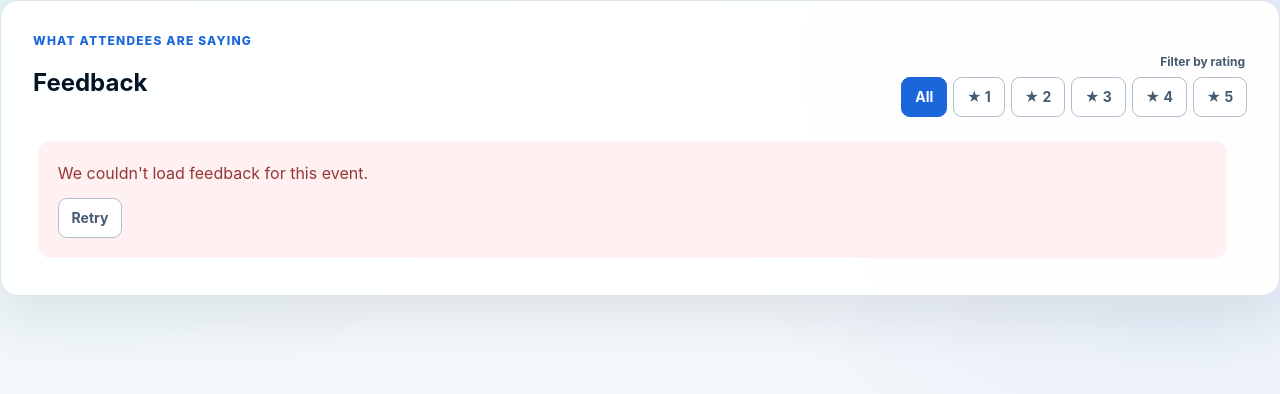
FeedbackStream › offers a retry after the initial request fails
Expected: the text "We couldn't load feedback for this event." is shown, [58,163,368,183]
Click the button "Retry" at point(90, 218), box [58,198,122,238]
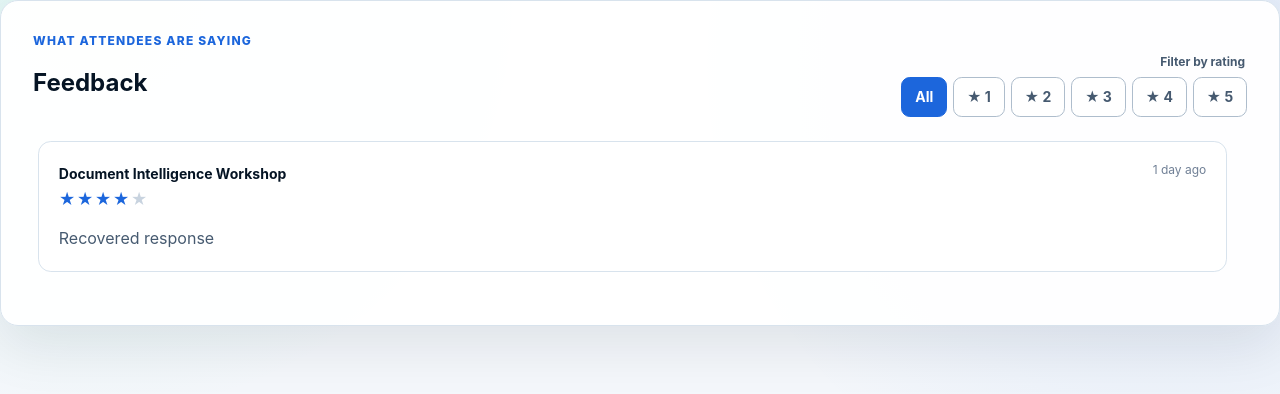
Result: the text "Recovered response" is shown at [59,228,214,248]
Result: the text "We couldn't load feedback for this event." is gone
